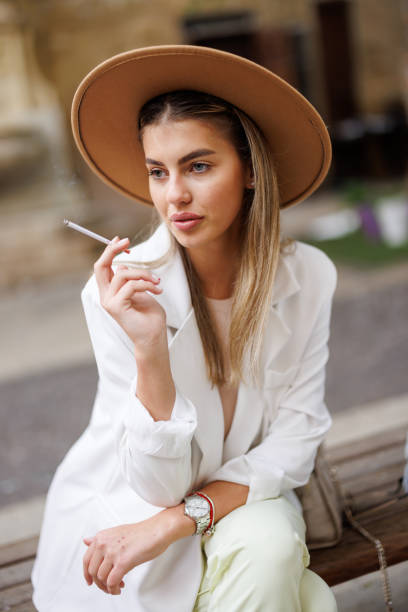cigarette: (62, 217, 132, 252)
